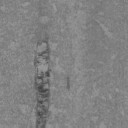oxide scale of plate system: (32, 38, 52, 128)
